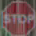Stop: (1, 6, 35, 29)
